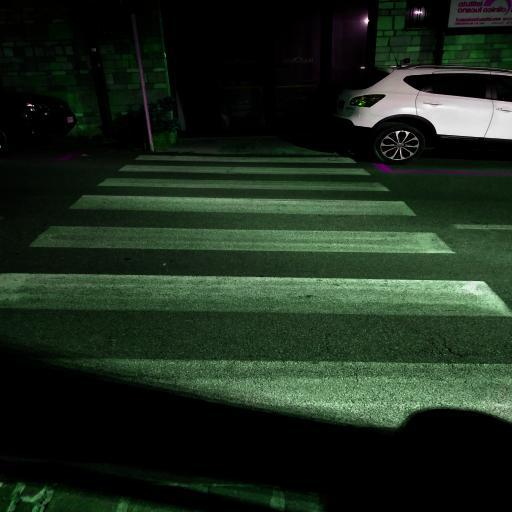crosswalk: (18, 191, 460, 257), (112, 152, 376, 178)
